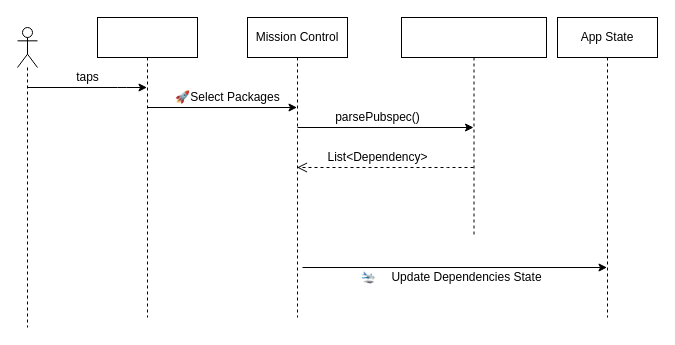
Some shapes in this 675 by 345 pixel diagram are drawn without their labels. The box of each missing label's shape, as (x1, y1, x2, y2) in pixels:
Parser Service: (400, 16, 546, 238)
Select Package Button: (96, 16, 198, 318)
